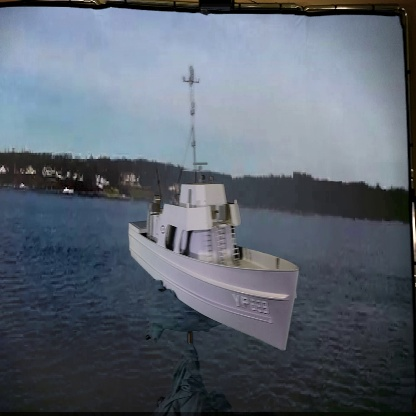YP689: (128, 88, 299, 349)
